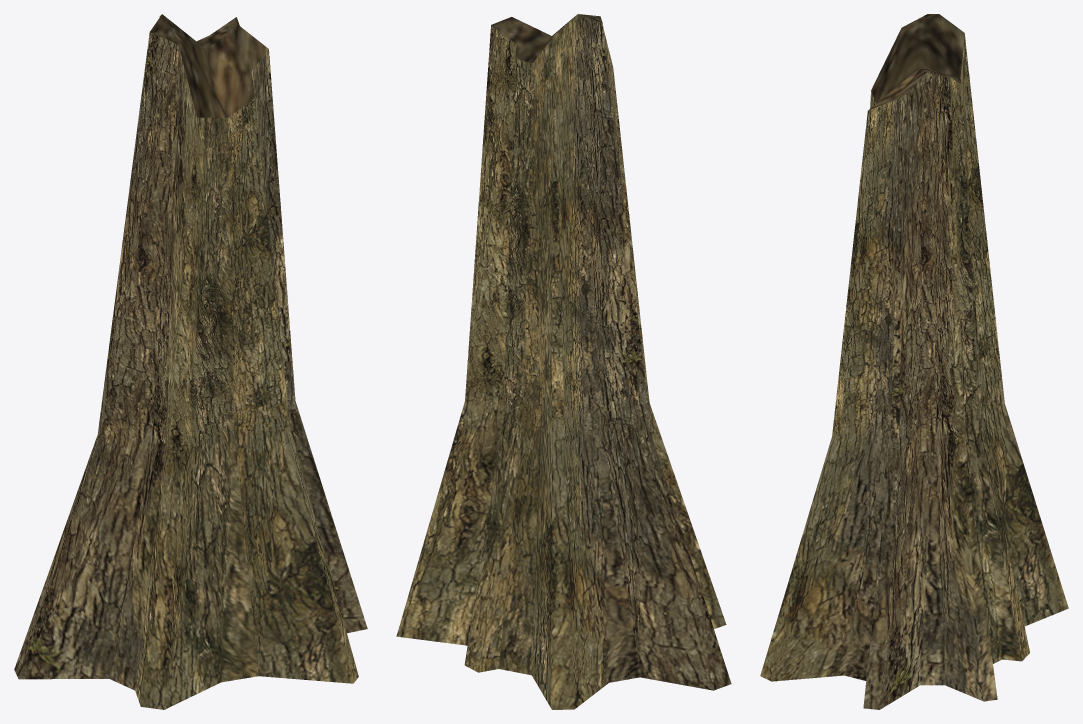
Rendered from Stump.fbx.
3 renders of one model, left to right at view 1: azimuth 30°, elevation 25°; view 2: azimuth 150°, elevation 25°; view 3: azimuth 270°, elevation 25°, orthographic. The views are drawn at different scales.
Parts seen in each view (by area): view 1: Stump; view 2: Stump; view 3: Stump.
Part boxes in pixels (bbox=[...]): Stump: bbox=[14, 14, 367, 709]; Stump: bbox=[396, 14, 731, 709]; Stump: bbox=[760, 14, 1068, 709].
Size of what is drawn, in the model's own units: 2.41 by 4.55 by 2.07.
